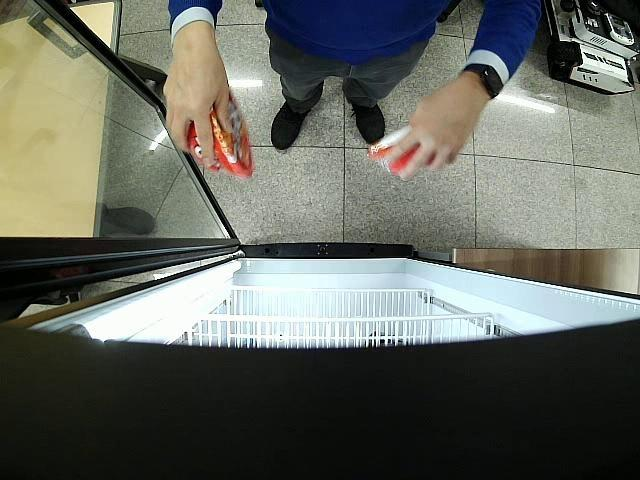10_wangTtukkeong: (187, 90, 255, 180), (368, 124, 436, 178)
